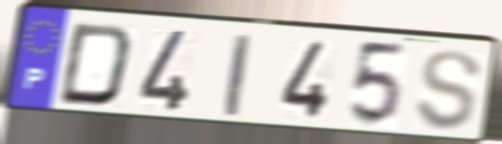4: (134, 27, 192, 115), (278, 39, 331, 123)
5: (344, 38, 414, 131)
D: (55, 21, 137, 110)
I: (222, 30, 254, 120)
S: (412, 47, 484, 134)
